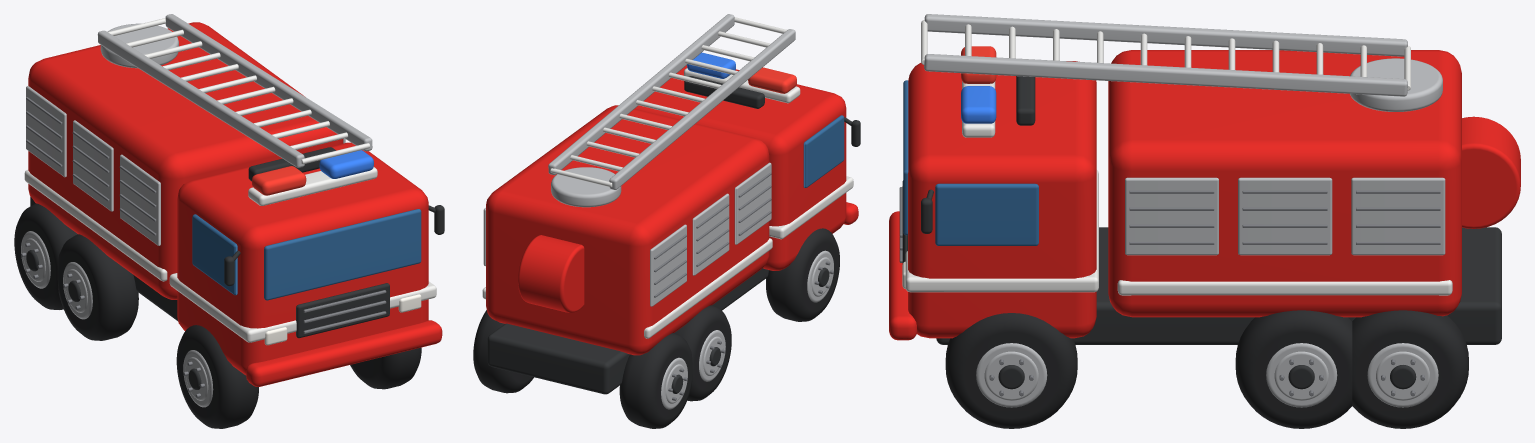
The model's file is FireTruck.glb.
3 renders of one model, left to right at view 1: azimuth 30°, elevation 25°; view 2: azimuth 150°, elevation 25°; view 3: azimuth 270°, elevation 25°, orthographic. The views are drawn at different scales.
Parts seen in each view (by area): view 1: FireTruck_FireTruck_Root_Red, FireTruck_FireTruck_Root_Glass, FireTruck_FireTruck_Root_LightGrey, FireTruck_Ladder_LightGrey, FireTruck_FireTruck_Root_White, Fire_WheelR1_Tire, FireTruck_FireTruck_Root_DarkGrey, Fire_WheelR0_Tire, FireTruck_Ladder_White, Fire_WheelR2_Tire, FireTruck_FireTruck_Root_SteelGrey, Fire_WheelL0_Tire (+7 smaller); view 2: FireTruck_FireTruck_Root_Red, FireTruck_FireTruck_Root_DarkGrey, FireTruck_Ladder_LightGrey, FireTruck_FireTruck_Root_LightGrey, Fire_WheelR2_Tire, Fire_WheelR0_Tire, FireTruck_Ladder_White, FireTruck_FireTruck_Root_White, Fire_WheelR1_Tire, Fire_LadderTurntable, FireTruck_FireTruck_Root_Glass, Fire_WheelL2_Tire (+6 smaller); view 3: FireTruck_FireTruck_Root_Red, FireTruck_FireTruck_Root_LightGrey, FireTruck_Ladder_LightGrey, FireTruck_FireTruck_Root_DarkGrey, FireTruck_FireTruck_Root_White, Fire_WheelL0_Tire, Fire_WheelL1_Tire, Fire_WheelL2_Tire, FireTruck_FireTruck_Root_Glass, FireTruck_FireTruck_Root_SteelGrey, FireTruck_Wheel_WheelL0_LightGrey, FireTruck_Wheel_WheelL1_LightGrey (+5 smaller).
Boxes of the visible parts, x1,y1,x2,y2 form: FireTruck_FireTruck_Root_Red: (28, 22, 442, 386); FireTruck_FireTruck_Root_Glass: (192, 209, 421, 300); FireTruck_FireTruck_Root_LightGrey: (26, 86, 345, 245); FireTruck_Ladder_LightGrey: (97, 14, 372, 167); FireTruck_FireTruck_Root_White: (24, 167, 436, 342); Fire_WheelR1_Tire: (57, 234, 138, 340); FireTruck_FireTruck_Root_DarkGrey: (30, 147, 444, 338); Fire_WheelR0_Tire: (176, 325, 258, 428); FireTruck_Ladder_White: (108, 18, 370, 164); Fire_WheelR2_Tire: (14, 203, 77, 309); FireTruck_FireTruck_Root_SteelGrey: (26, 97, 386, 333); Fire_WheelL0_Tire: (350, 347, 421, 389); FireTruck_FireTruck_Root_Red: (486, 65, 858, 355); FireTruck_FireTruck_Root_DarkGrey: (487, 76, 860, 394); FireTruck_Ladder_LightGrey: (548, 14, 795, 189); FireTruck_FireTruck_Root_LightGrey: (483, 162, 771, 306); Fire_WheelR2_Tire: (619, 333, 692, 428); Fire_WheelR0_Tire: (766, 228, 839, 321); FireTruck_Ladder_White: (550, 17, 786, 187); FireTruck_FireTruck_Root_White: (482, 68, 853, 338); Fire_WheelR1_Tire: (675, 305, 731, 401); Fire_LadderTurntable: (551, 167, 621, 207); FireTruck_FireTruck_Root_Glass: (803, 115, 844, 187); Fire_WheelL2_Tire: (473, 310, 533, 393); FireTruck_FireTruck_Root_Red: (889, 50, 1520, 340); FireTruck_FireTruck_Root_LightGrey: (1125, 177, 1445, 255); FireTruck_Ladder_LightGrey: (924, 14, 1407, 96); FireTruck_FireTruck_Root_DarkGrey: (902, 76, 1501, 344); FireTruck_FireTruck_Root_White: (905, 81, 1452, 295); Fire_WheelL0_Tire: (945, 313, 1077, 428); Fire_WheelL1_Tire: (1235, 310, 1352, 428); Fire_WheelL2_Tire: (1352, 310, 1468, 428); FireTruck_FireTruck_Root_Glass: (903, 80, 1038, 245); FireTruck_FireTruck_Root_SteelGrey: (899, 187, 1440, 262); FireTruck_Wheel_WheelL0_LightGrey: (976, 343, 1047, 407); FireTruck_Wheel_WheelL1_LightGrey: (1266, 343, 1337, 407).
Size of the model in its own units: 1.29 by 1.59 by 2.68.
8 materials, 8 textured.
